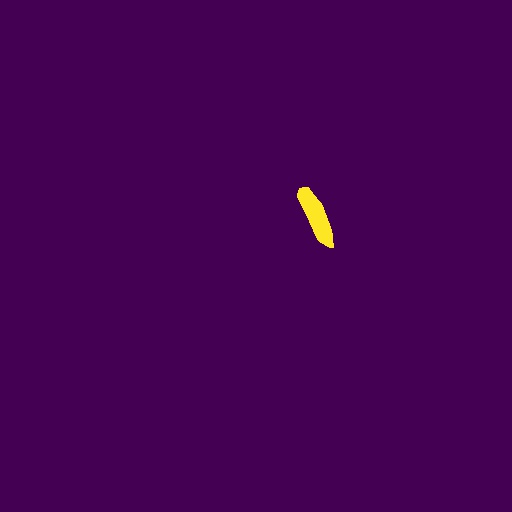Gliomia_tumour: (297, 187, 334, 248)
